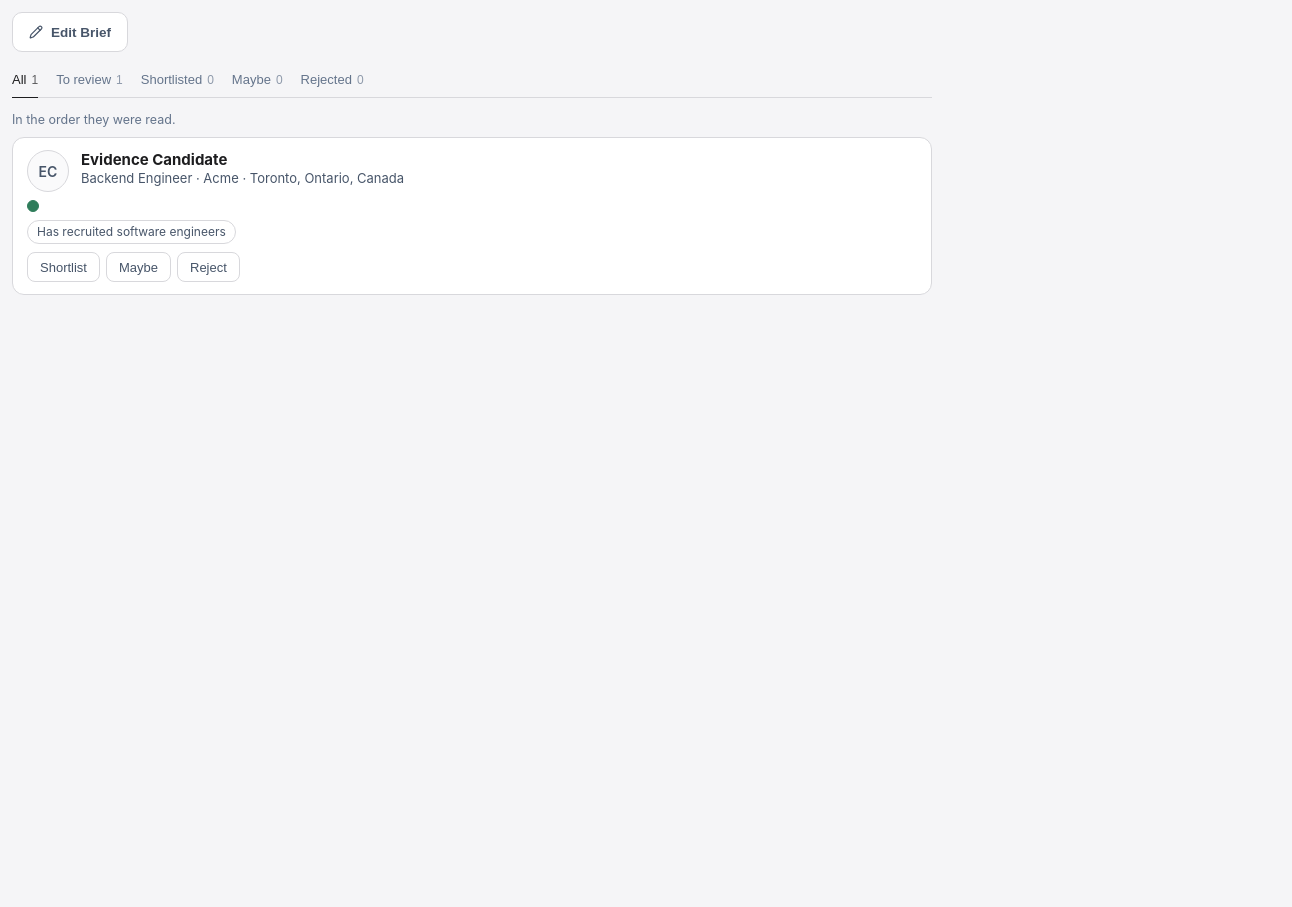
Test: evidence state: met / not_evidenced / unknown › 1. met renders as affirmative evidence with its real quote
Click the element with class "ws-card".
click(472, 216)  # box 12,137 -> 932,295
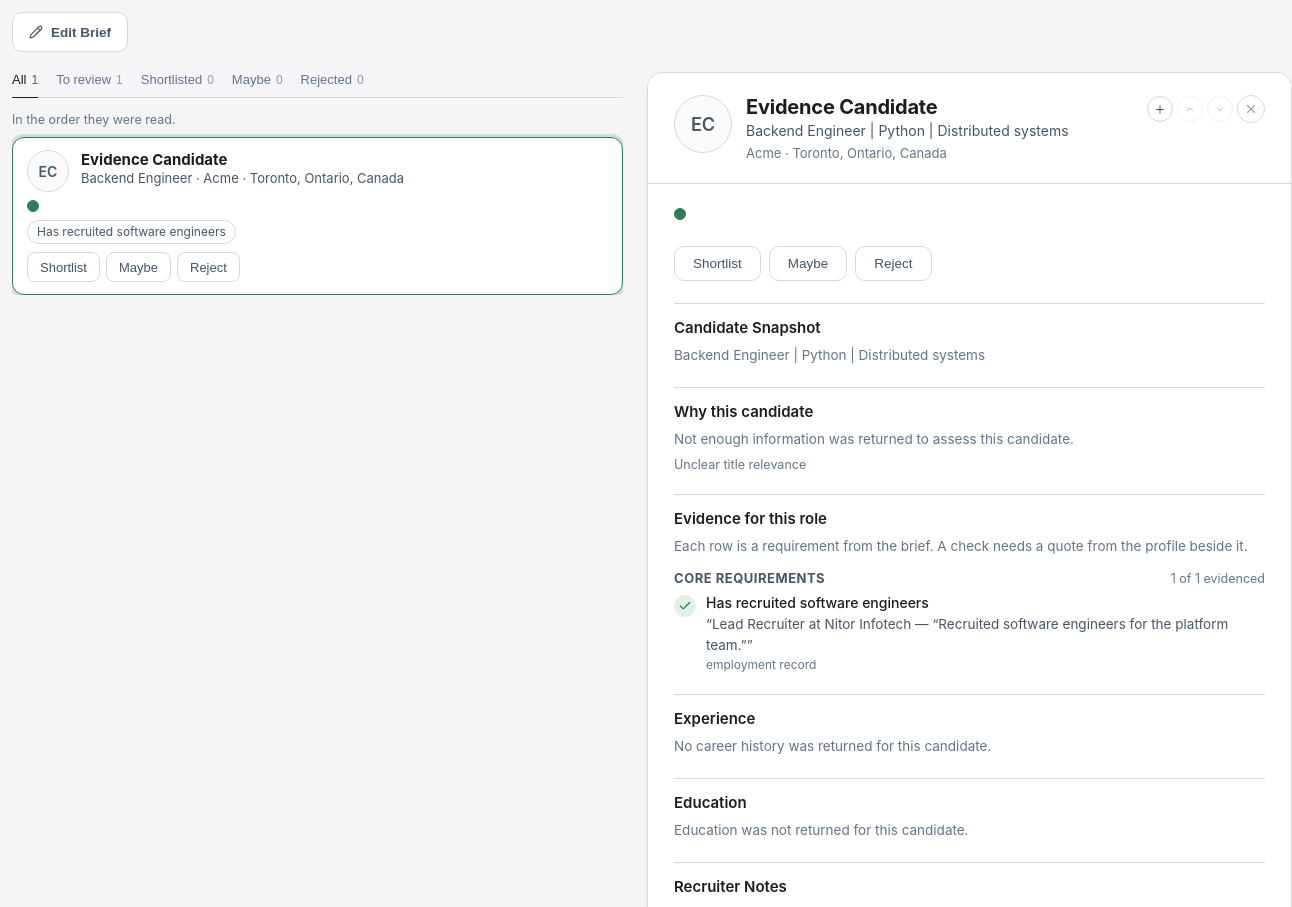
Result: the list item with class "record-ledger__row--met" is shown at 674,594 -> 1265,672
Result: the text with class "record-ledger__quote" shows "Recruited software engineers for the platform team" at 706,616 -> 1228,653
